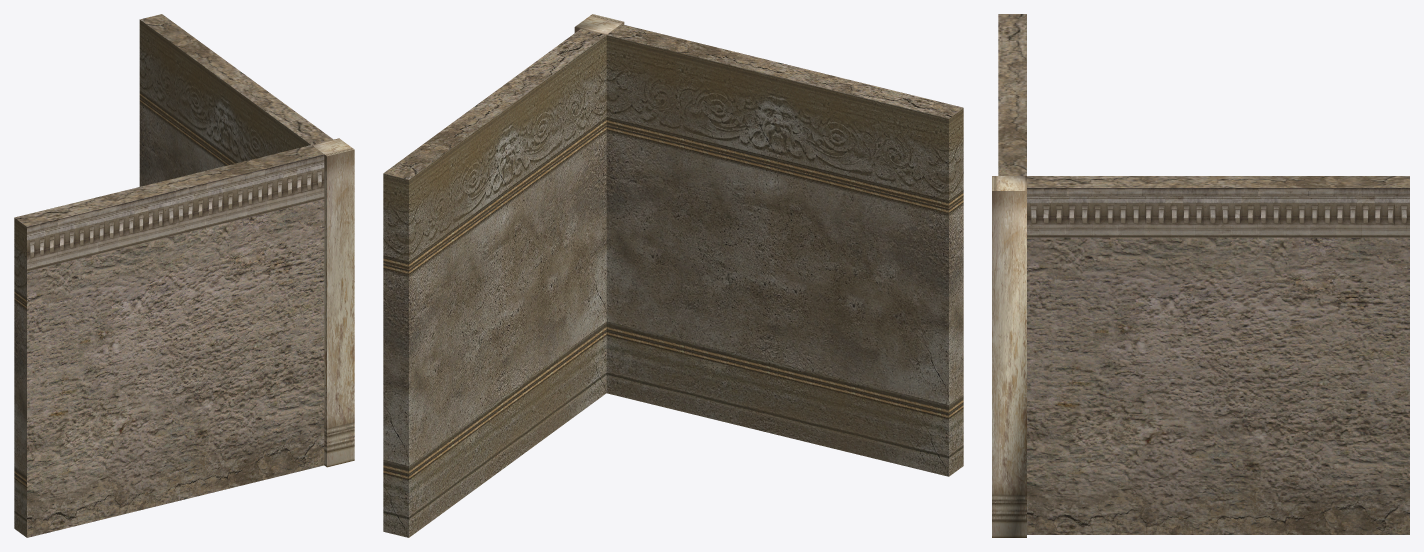
File: SH3D_Sparta_WallCorner.obj
The picture shows the model from 3 angles, left to right: view 1: azimuth 30°, elevation 25°; view 2: azimuth 150°, elevation 25°; view 3: azimuth 270°, elevation 25°; orthographic projection. The views are drawn at different scales.
Parts seen in each view (by area): view 1: Sh3D_ExtWallL0, SH3D_IntWallR0, SH3D_CornerPost0, SH3D_IntWallL0, SH3D_ExtWallR0; view 2: SH3D_IntWallL0, SH3D_IntWallR0, Sh3D_ExtWallL0, SH3D_ExtWallR0; view 3: SH3D_ExtWallR0, SH3D_CornerPost0, Sh3D_ExtWallL0.
Boxes of the visible parts, left/top/right/bottom form: Sh3D_ExtWallL0: left=14, top=145, right=324, bottom=537; SH3D_IntWallR0: left=139, top=19, right=310, bottom=186; SH3D_CornerPost0: left=312, top=138, right=354, bottom=467; SH3D_IntWallL0: left=14, top=218, right=26, bottom=537; SH3D_ExtWallR0: left=140, top=14, right=333, bottom=144; SH3D_IntWallL0: left=606, top=35, right=963, bottom=476; SH3D_IntWallR0: left=383, top=35, right=606, bottom=537; Sh3D_ExtWallL0: left=607, top=24, right=963, bottom=118; SH3D_ExtWallR0: left=383, top=29, right=605, bottom=179; SH3D_ExtWallR0: left=1027, top=176, right=1409, bottom=534; SH3D_CornerPost0: left=992, top=176, right=1026, bottom=537; Sh3D_ExtWallL0: left=998, top=14, right=1026, bottom=175.
Bounding box in the file's own units: 4.37 × 4 × 4.36.
